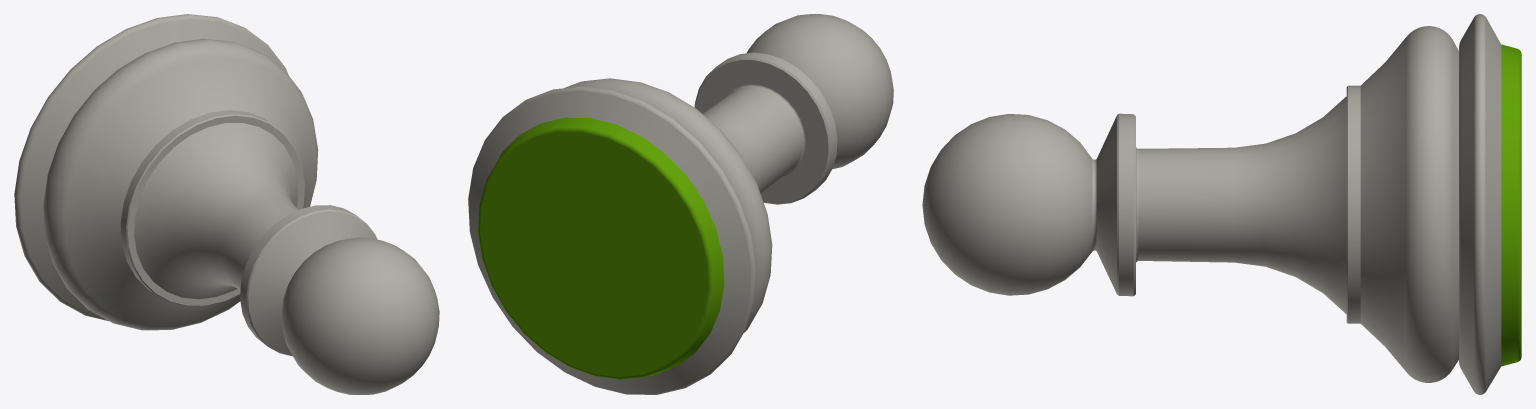
Rendered from pawn.glb.
The picture shows the model from 3 angles, left to right: view 1: azimuth 30°, elevation 25°; view 2: azimuth 150°, elevation 25°; view 3: azimuth 270°, elevation 25°; orthographic projection. The views are drawn at different scales.
Visible parts, largest first — view 1: pawn; view 2: pawn, felt; view 3: pawn, felt.
Boxes of the visible parts, x1,y1,x2,y2 form: pawn: [14, 14, 439, 394]; pawn: [468, 14, 893, 394]; felt: [478, 117, 724, 379]; pawn: [922, 14, 1501, 394]; felt: [1501, 44, 1521, 366].
Bounding box in the file's own units: 0.0272 × 0.0271 × 0.0426.
